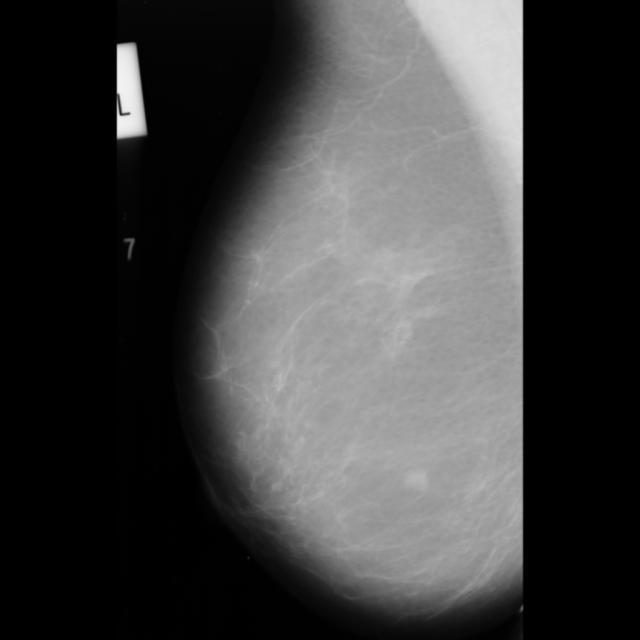CALC: (367, 314, 413, 361)
